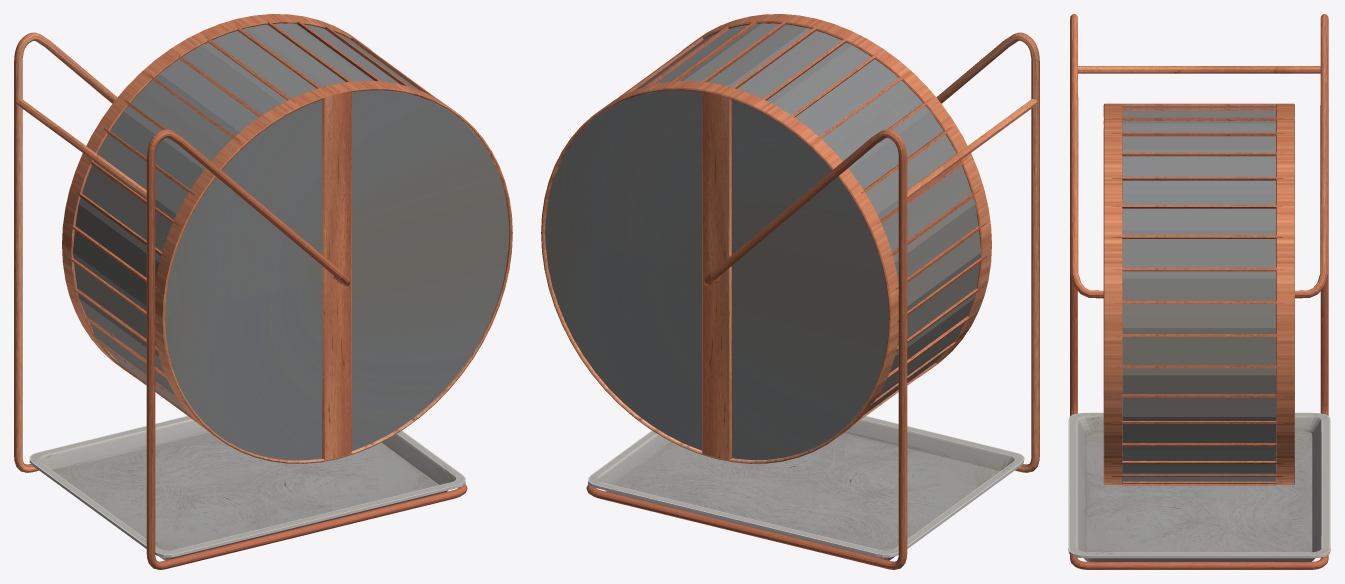
The model's file is P_Hamster_Wheel_02.obj.
3 renders of one model, left to right at view 1: azimuth 30°, elevation 25°; view 2: azimuth 150°, elevation 25°; view 3: azimuth 270°, elevation 25°, orthographic. The views are drawn at different scales.
Bounding box in the file's own units: 1.09 × 1.19 × 0.6842.
6 materials, 6 textured.
